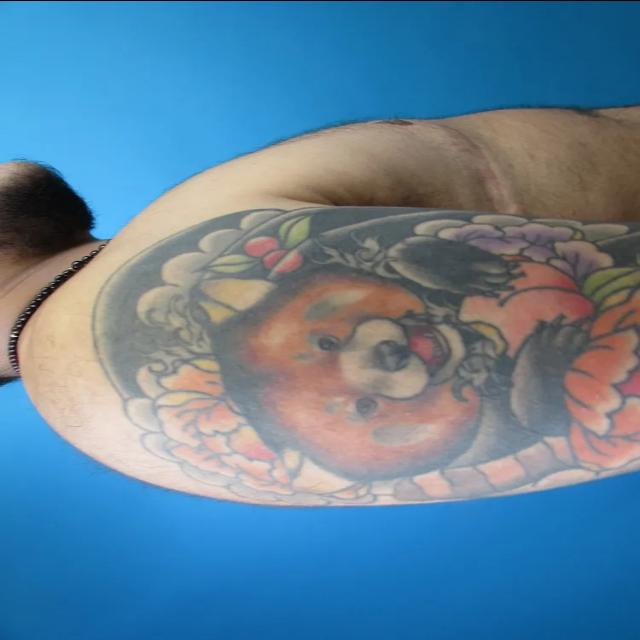Seno herido: (252, 111, 538, 216)
